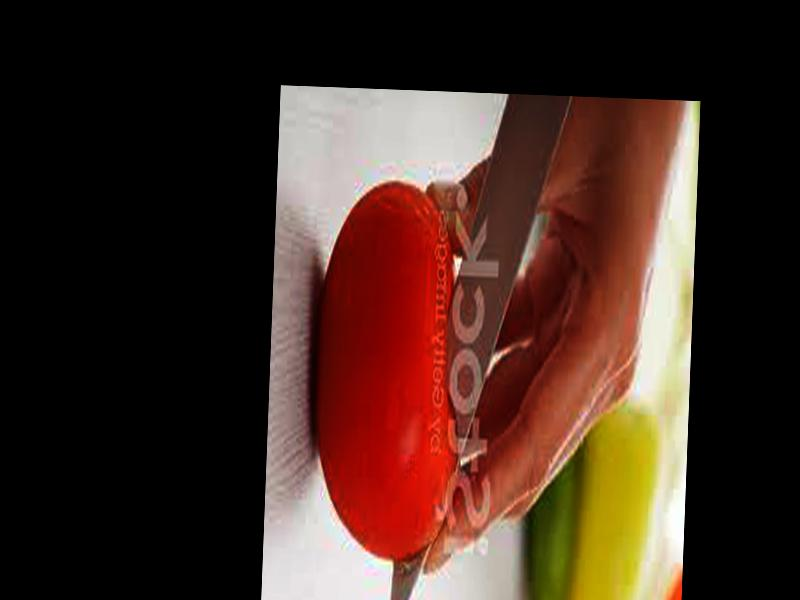Tomato: (305, 175, 466, 562)
